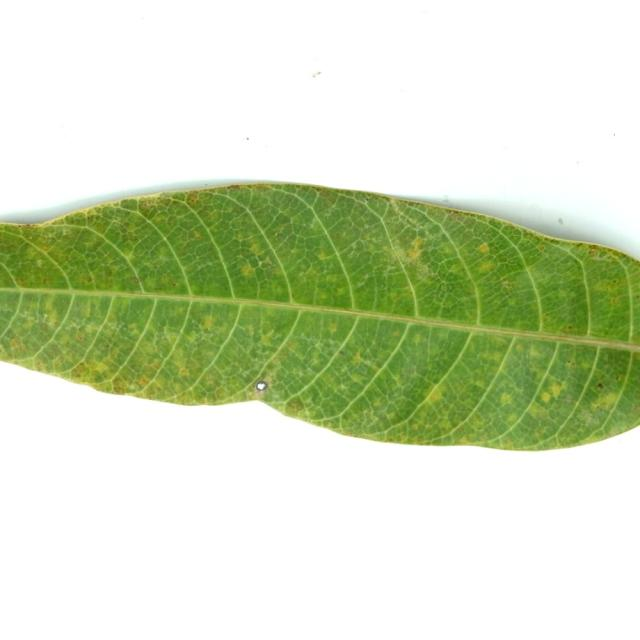Mango: (0, 184, 639, 450)
Powdery_Mildew: (79, 223, 153, 288), (526, 269, 588, 327), (11, 222, 119, 244), (422, 269, 467, 310), (332, 233, 381, 266), (307, 277, 353, 306), (278, 209, 322, 238), (164, 386, 225, 405), (397, 218, 440, 244), (625, 265, 636, 350), (344, 351, 384, 373), (590, 387, 620, 411), (39, 341, 66, 363), (159, 322, 186, 344), (189, 256, 220, 274), (233, 256, 257, 279), (426, 385, 446, 403), (285, 398, 306, 415), (543, 236, 570, 249), (1, 236, 24, 251), (119, 199, 141, 214), (529, 404, 550, 419), (43, 295, 57, 315), (72, 362, 90, 377), (548, 382, 564, 398), (477, 260, 496, 273), (589, 252, 612, 262), (260, 333, 276, 347), (201, 314, 215, 330), (93, 361, 110, 374), (500, 392, 515, 406), (82, 211, 99, 223), (21, 317, 36, 330), (449, 211, 468, 221), (186, 193, 200, 206), (204, 374, 217, 387), (500, 280, 513, 292), (325, 275, 340, 285), (412, 333, 423, 346), (10, 337, 22, 348), (316, 250, 329, 260), (251, 184, 272, 190), (328, 321, 338, 333), (478, 243, 490, 253), (285, 341, 296, 351), (372, 398, 383, 408), (128, 382, 140, 391), (150, 360, 160, 370), (17, 223, 37, 228), (179, 368, 190, 377), (313, 186, 325, 194), (235, 233, 245, 242), (192, 230, 202, 239), (391, 329, 401, 338), (129, 323, 138, 332), (16, 278, 26, 286), (75, 333, 85, 341), (228, 184, 241, 190), (82, 277, 92, 284), (36, 259, 44, 267), (40, 323, 48, 331), (412, 422, 420, 430), (41, 245, 50, 252), (538, 244, 546, 251), (616, 374, 623, 381), (597, 382, 604, 389), (442, 196, 449, 203), (290, 292, 296, 300), (567, 360, 574, 366), (557, 218, 563, 225), (543, 312, 550, 317), (636, 404, 640, 412), (42, 279, 47, 285), (613, 279, 619, 284), (364, 197, 369, 203), (339, 350, 344, 356), (43, 313, 47, 319), (275, 232, 279, 236), (28, 236, 33, 239), (637, 295, 640, 299)
